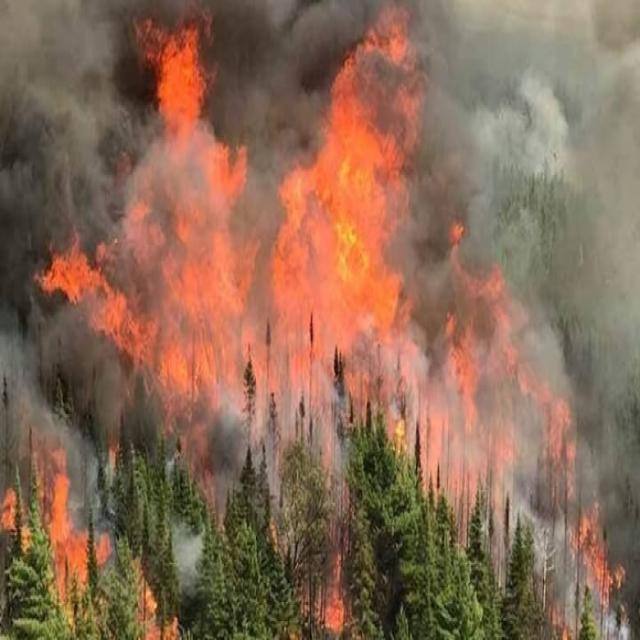Fire: (160, 283, 618, 613), (292, 40, 409, 282), (148, 39, 261, 280), (14, 449, 172, 620), (49, 222, 158, 358)
Smoke: (14, 27, 593, 497)
